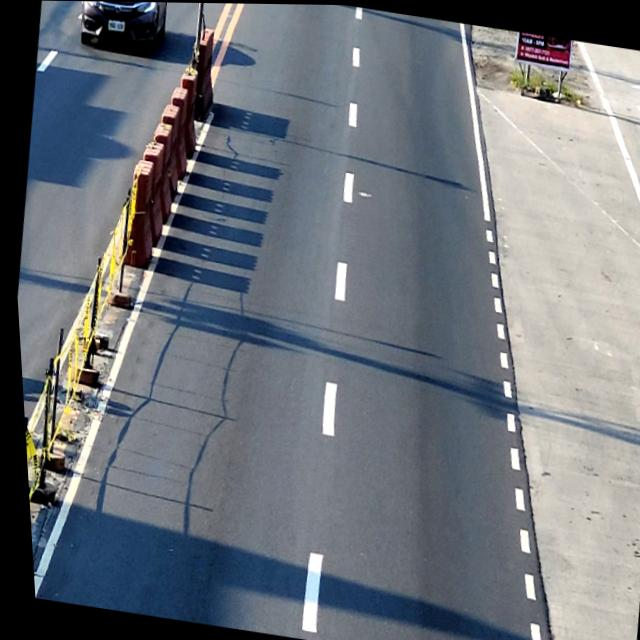Car: (75, 1, 174, 58)
License-Plate: (107, 20, 125, 32)
